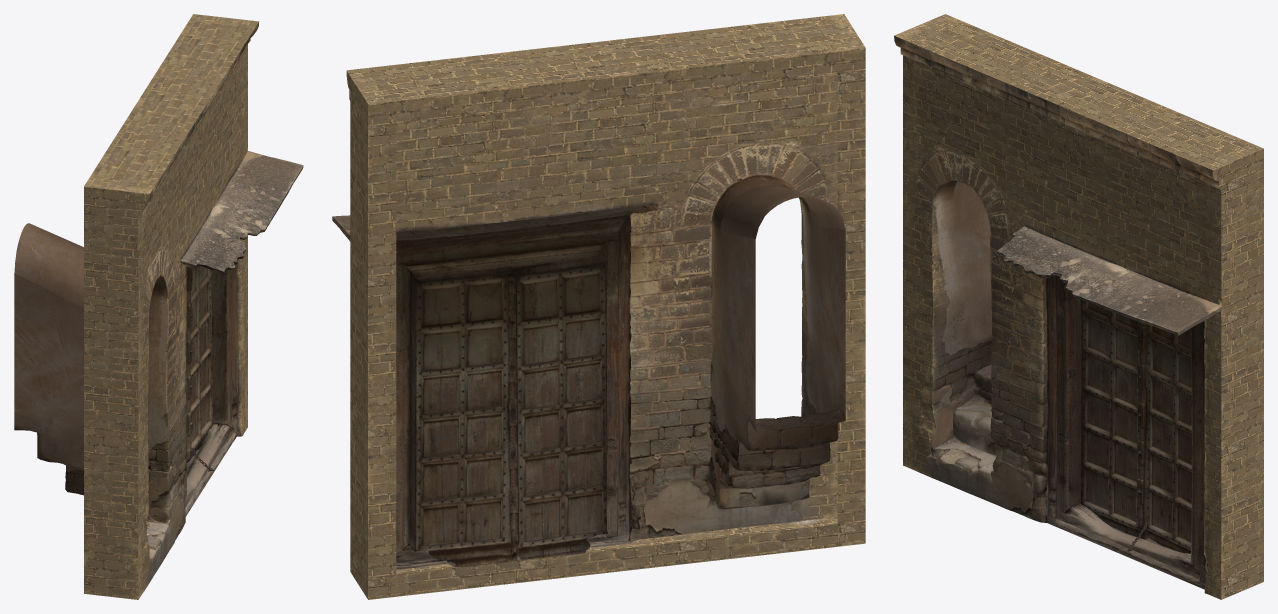
Rendered from modular_building_door_01_-_3d_scan_quixel_mega.glb.
The picture shows the model from 3 angles, left to right: view 1: azimuth 30°, elevation 25°; view 2: azimuth 150°, elevation 25°; view 3: azimuth 270°, elevation 25°; orthographic projection. The views are drawn at different scales.
Visible parts, largest first — view 1: Aset_building__M_wmcqbapdw_00_LOD0_2; view 2: Aset_building__M_wmcqbapdw_00_LOD0_2; view 3: Aset_building__M_wmcqbapdw_00_LOD0_2.
Part boxes in pixels (bbox=[...]): Aset_building__M_wmcqbapdw_00_LOD0_2: bbox=[14, 14, 303, 599]; Aset_building__M_wmcqbapdw_00_LOD0_2: bbox=[332, 14, 865, 599]; Aset_building__M_wmcqbapdw_00_LOD0_2: bbox=[894, 14, 1263, 599].
Size of the model in its own units: 3.88 by 4.25 by 3.28.
Materials: 1 (1 with a texture image).
